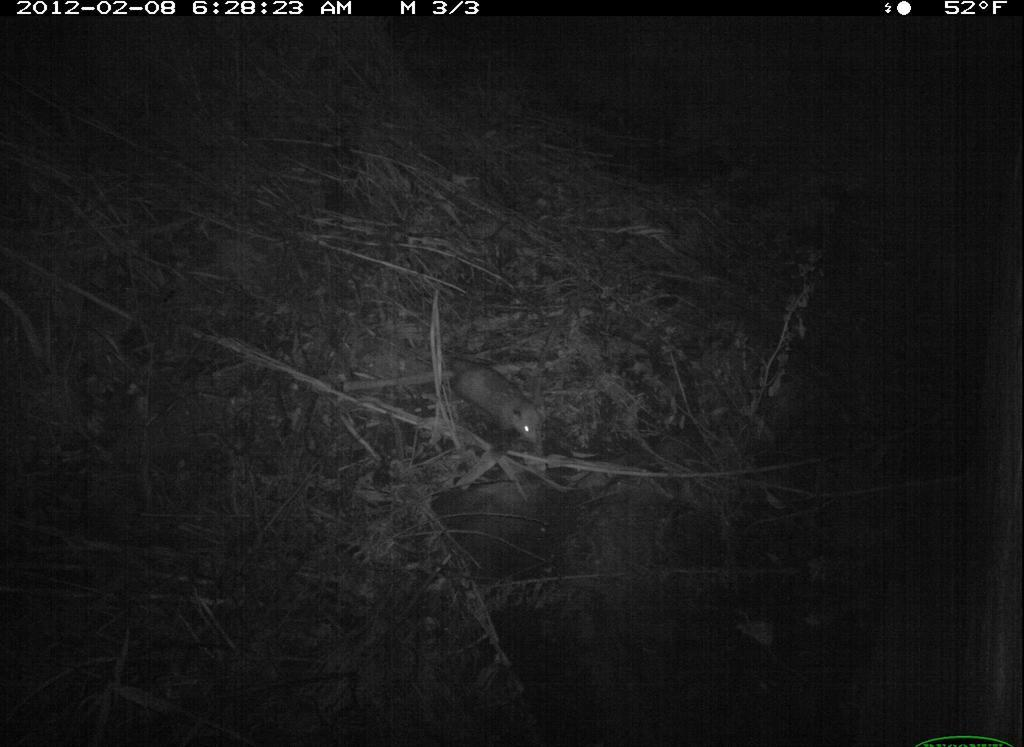opossum: (424, 328, 591, 489)
